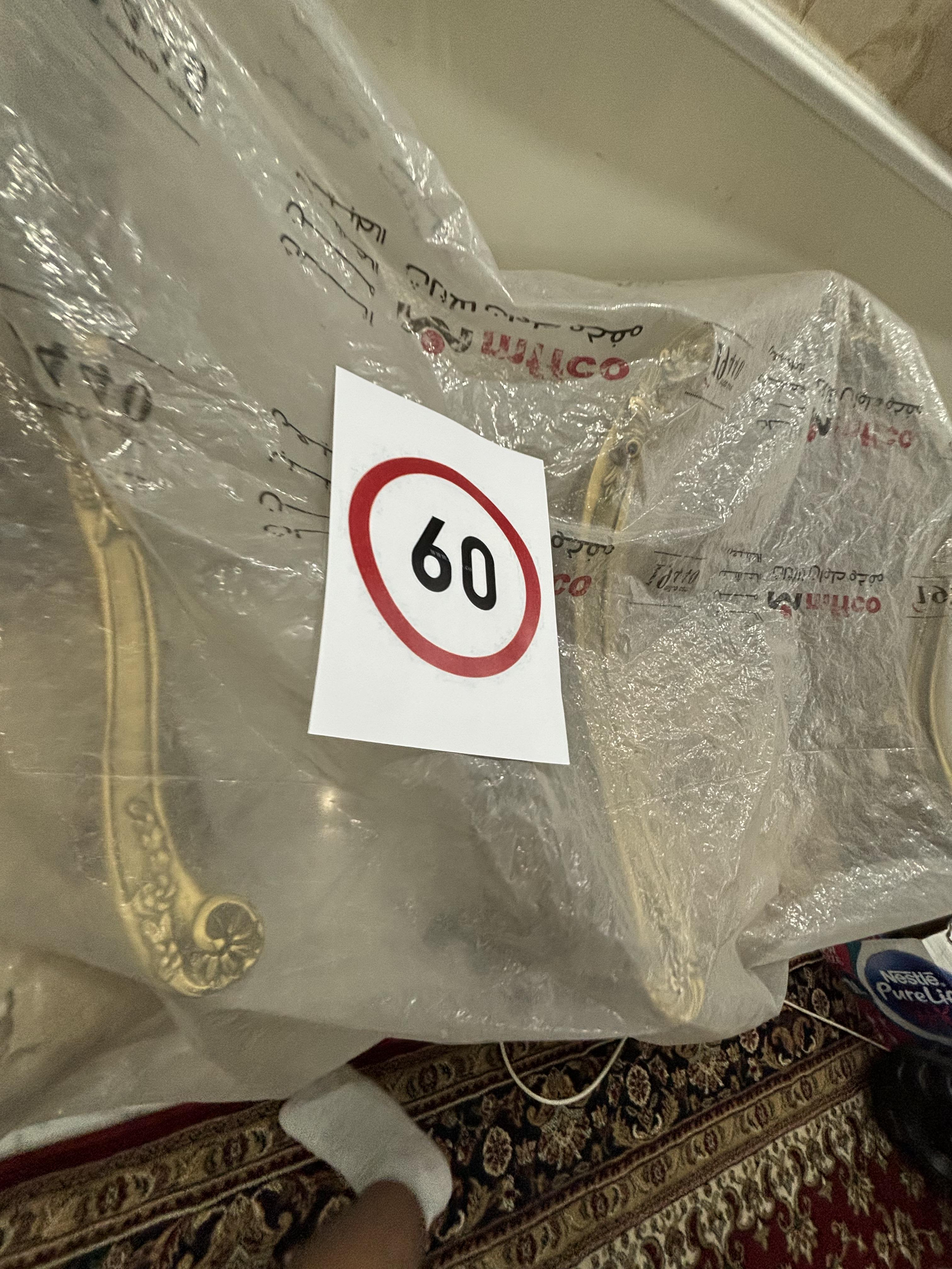60-Speed: (353, 444, 553, 689)
